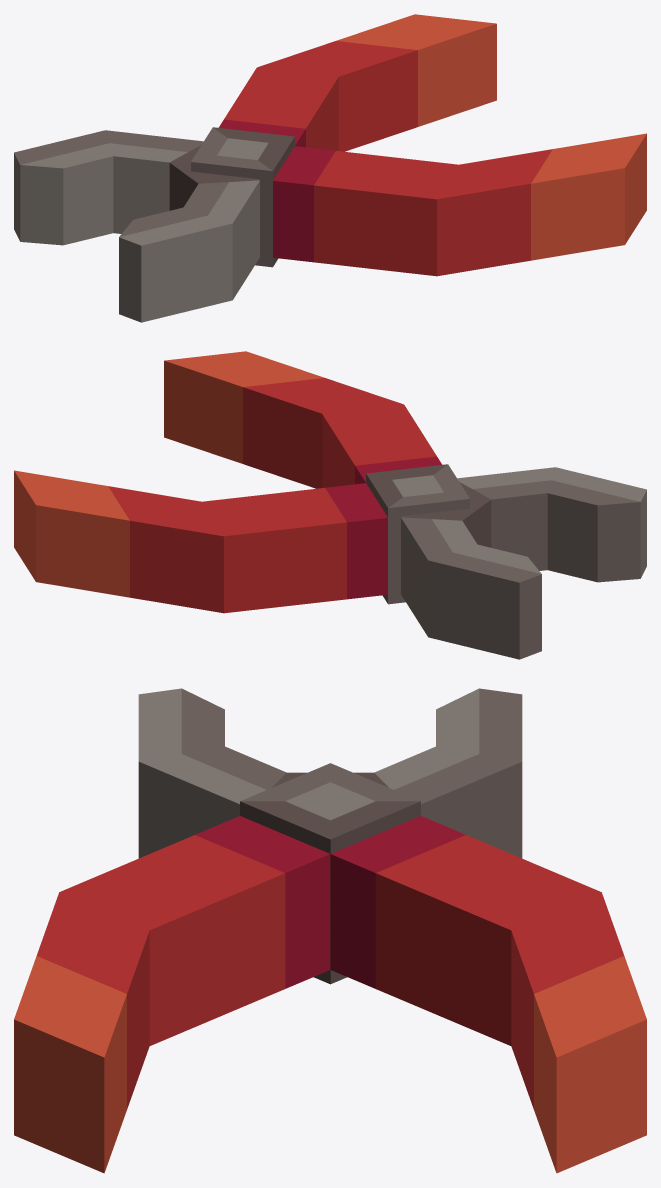
Rendered from tongs.fbx.
The picture shows the model from 3 angles, top to bottom: view 1: azimuth 30°, elevation 25°; view 2: azimuth 150°, elevation 25°; view 3: azimuth 270°, elevation 25°; orthographic projection. The views are drawn at different scales.
Parts seen in each view (by area): view 1: handle_1, u, handle, hinge; view 2: handle, u, handle_1, hinge; view 3: handle, handle_1, u, hinge.
Part boxes in pixels (left/top/right/bottom): handle_1: left=273, top=133, right=646, bottom=276; u: left=14, top=130, right=259, bottom=322; handle: left=218, top=14, right=496, bottom=151; hinge: left=191, top=127, right=294, bottom=267; handle: left=14, top=470, right=387, bottom=613; u: left=401, top=467, right=646, bottom=659; handle_1: left=164, top=351, right=442, bottom=488; hinge: left=366, top=464, right=469, bottom=604; handle: left=330, top=816, right=646, bottom=1173; handle_1: left=14, top=816, right=330, bottom=1173; u: left=138, top=688, right=522, bottom=858; hinge: left=240, top=763, right=420, bottom=984.
Bounding box in the file's own units: 85.39 × 15.62 × 61.87.
Materials: 1 (1 with a texture image).
